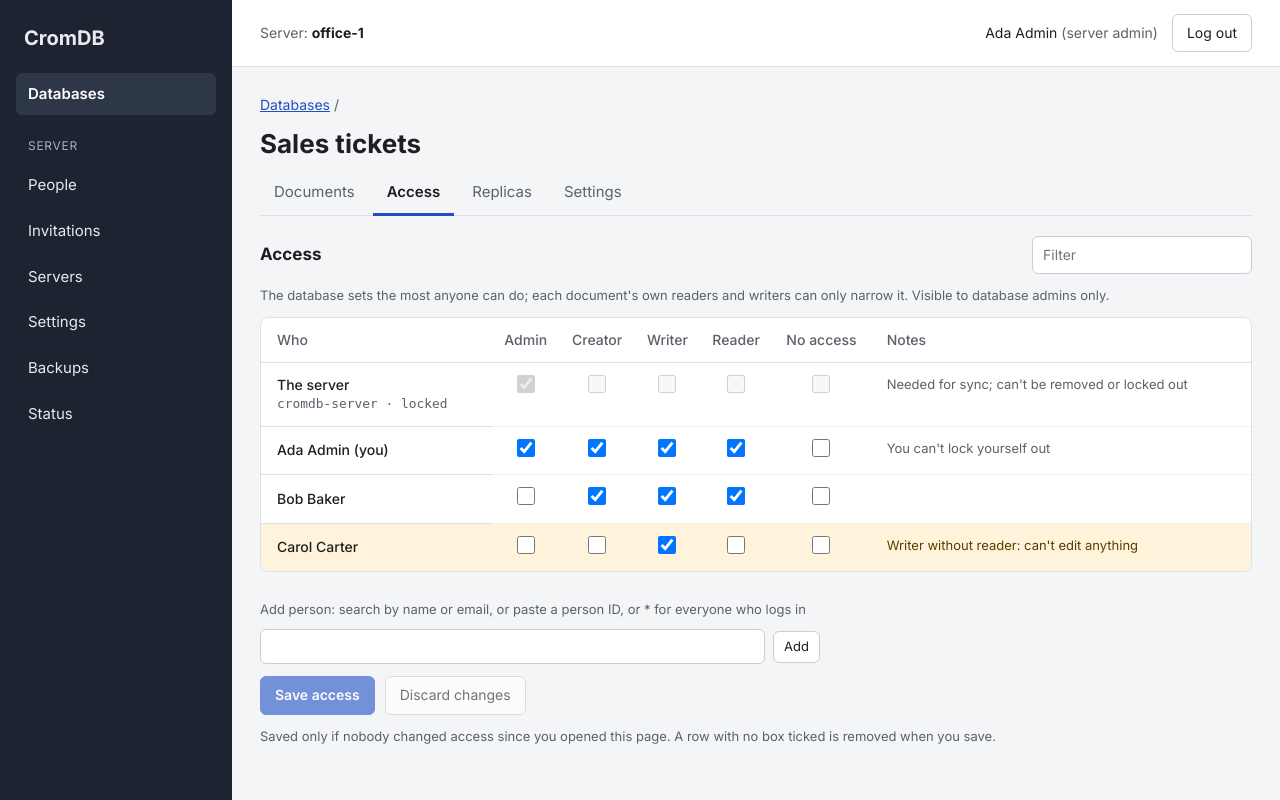
Test: the Access tab › saves every list at once, with the version read
Click the checkbox named "Reader: Carol Carter".
click(736, 544)  # box top-left (727, 536), bottom-right (745, 554)
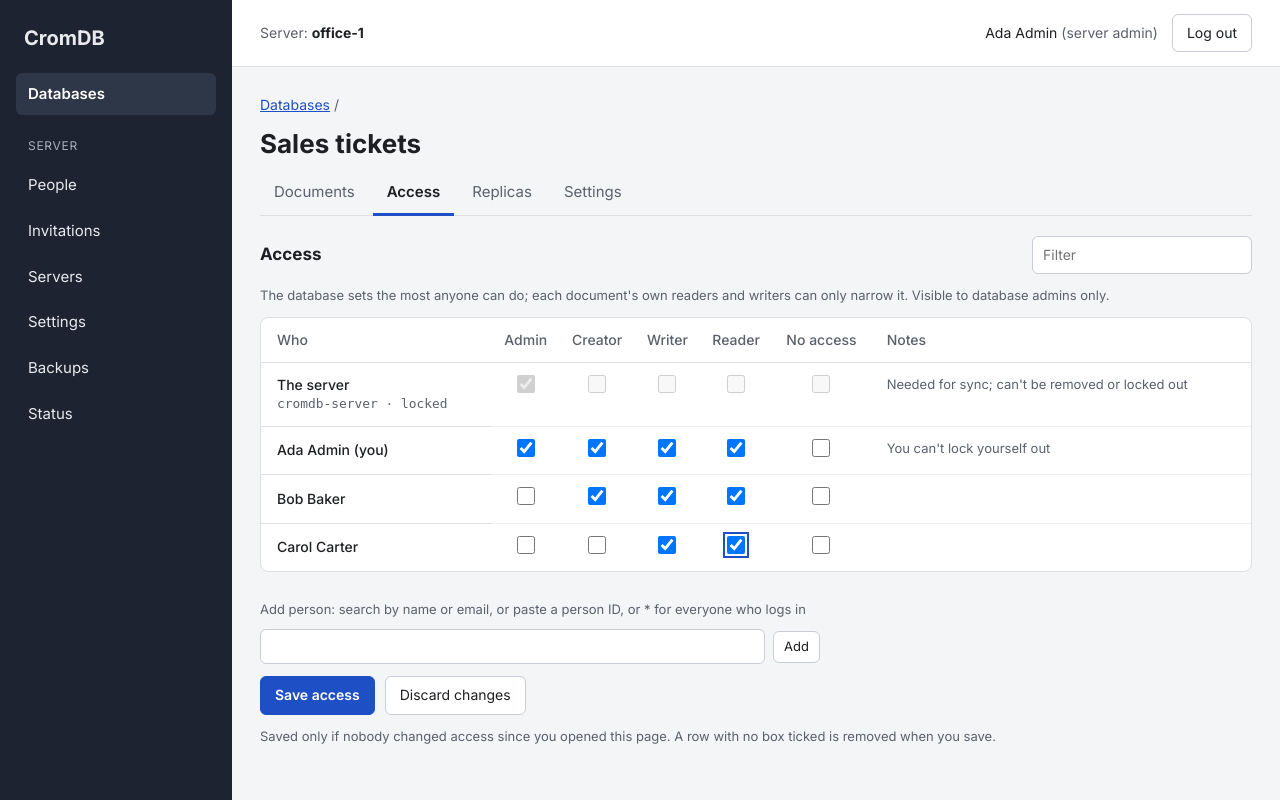
expect the text "Writer without reader: can't edit anything" is gone: met
Click the button "Save access".
click(317, 696)  # box top-left (260, 676), bottom-right (375, 715)
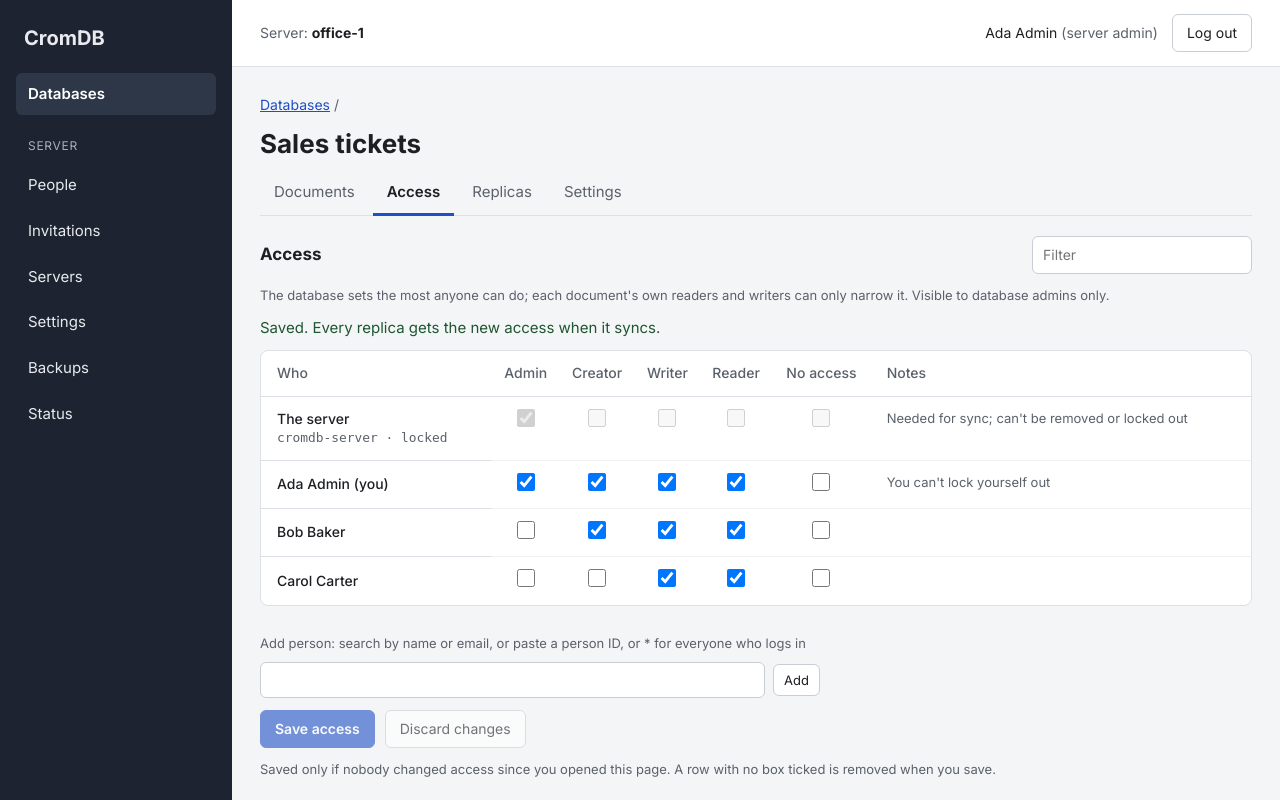
expect the text "Saved. Every replica gets the new access when it syncs." is shown: met, box top-left (260, 318), bottom-right (660, 337)
